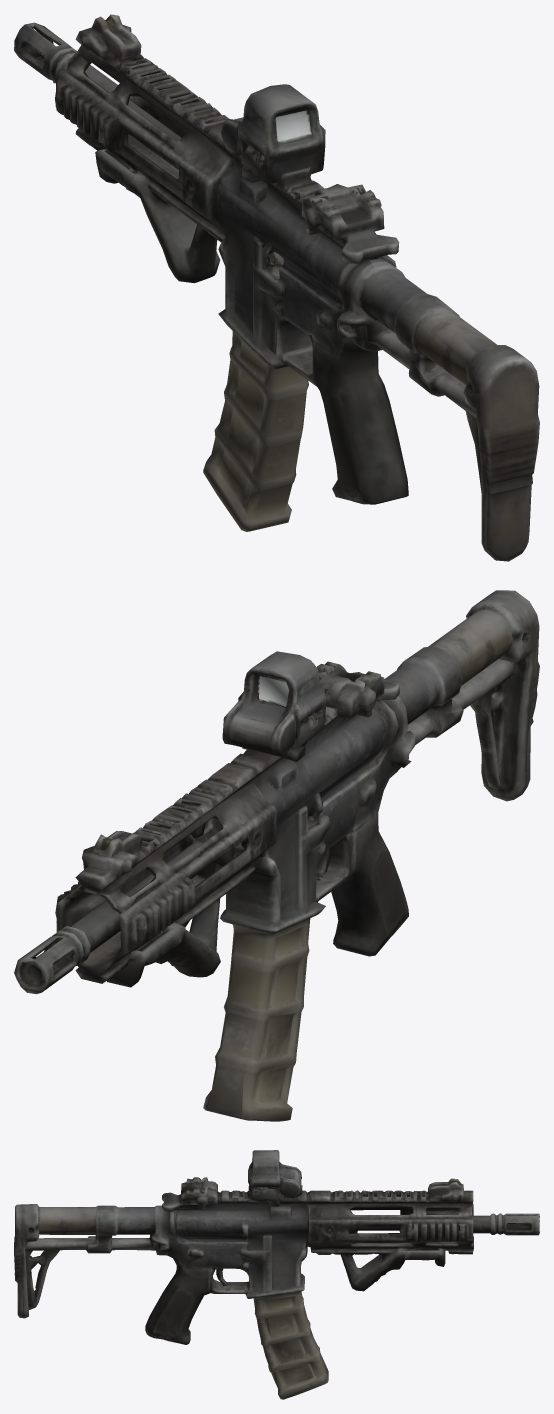
Rendered from X56D_webp.glb.
3 views of the same model, one above another, from view 1: azimuth 30°, elevation 25°; view 2: azimuth 150°, elevation 25°; view 3: azimuth 270°, elevation 25° (orthographic). The views are drawn at different scales.
Visible parts, largest first — view 1: X56D; view 2: X56D; view 3: X56D.
Part boxes in pixels (x1=…): X56D: x1=14, y1=14, x2=539, y2=561; X56D: x1=14, y1=590, x2=539, y2=1121; X56D: x1=14, y1=1150, x2=539, y2=1399.
Bounding box in the file's own units: 0.0919 × 0.4291 × 0.85.
1 material, 1 textured.
